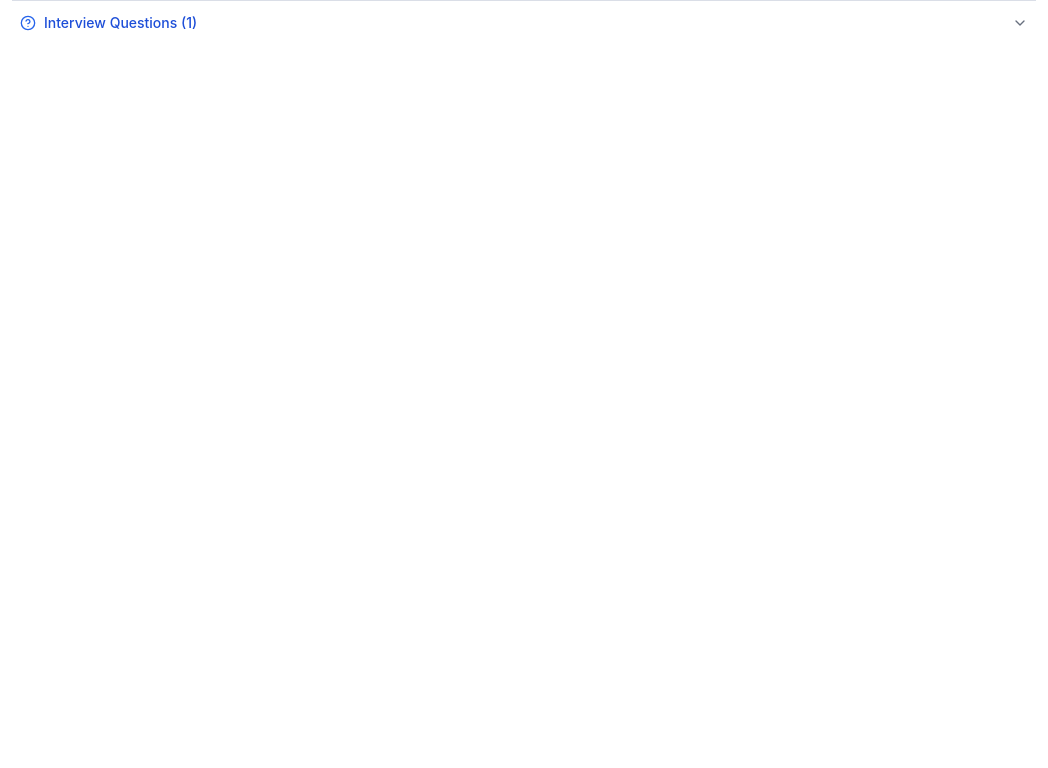
Test case: MatchInsights › shows copied confirmation after copying
Click the button "Interview Questions (1)" at point(115, 22), box [12, 9, 1036, 37]
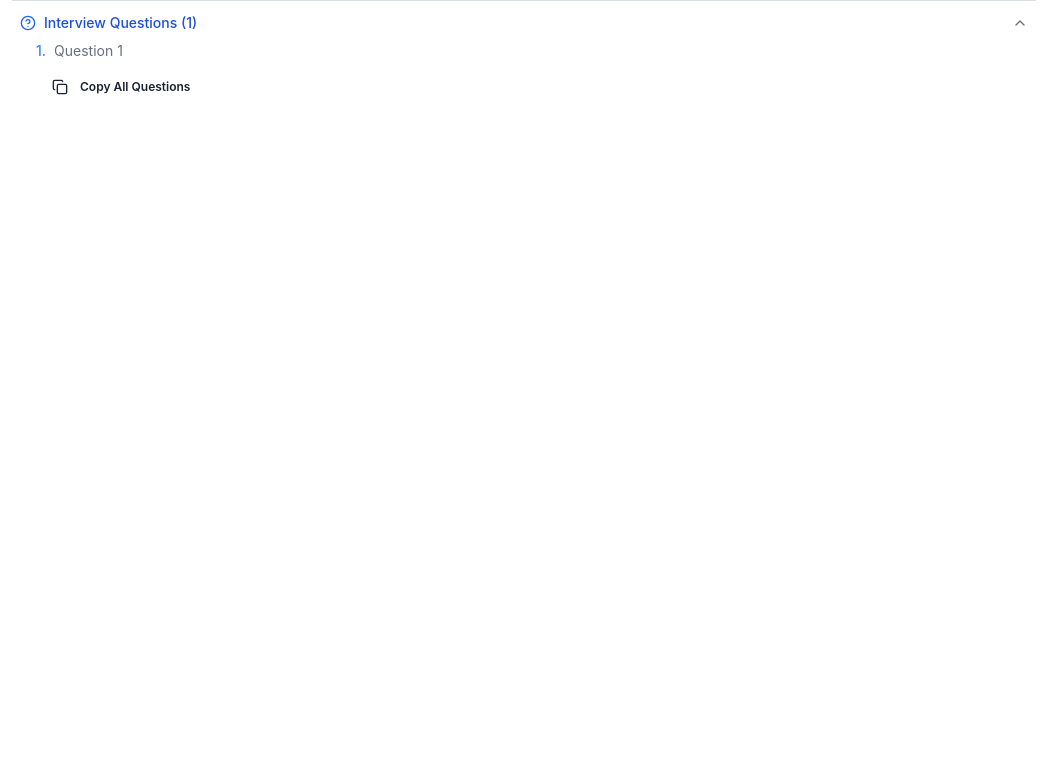
Click the button "Copy All Questions" at point(121, 87), box [36, 69, 206, 105]
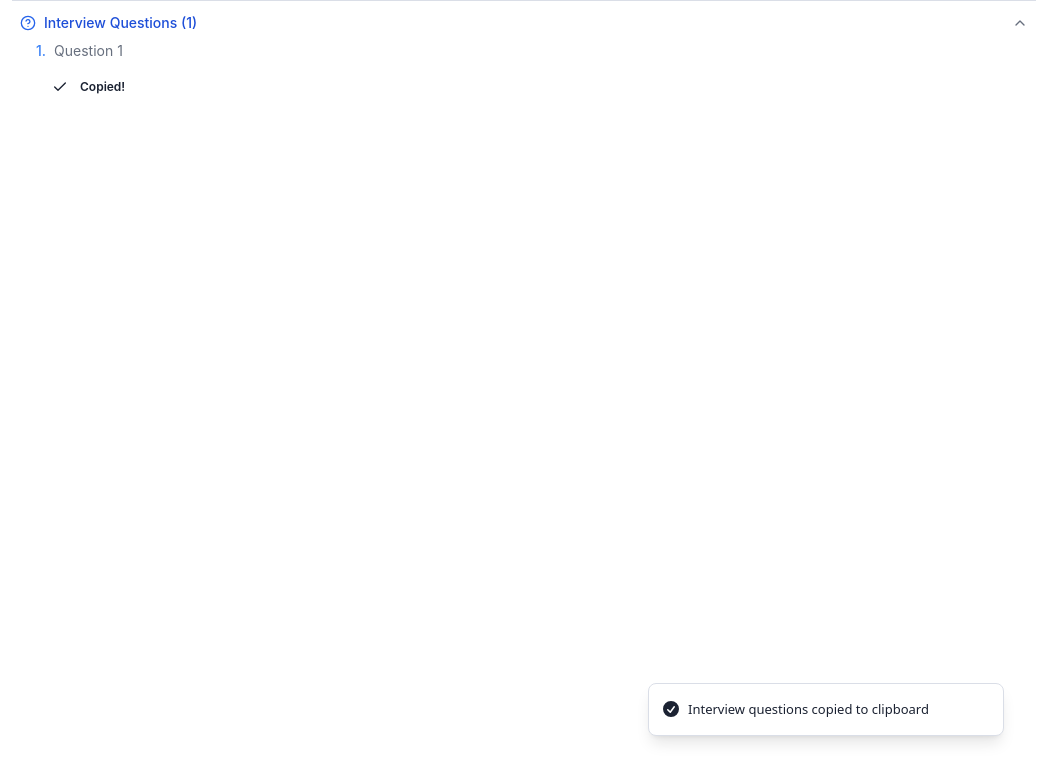
Now the button "Copied!" is shown, box [36, 69, 141, 105]
